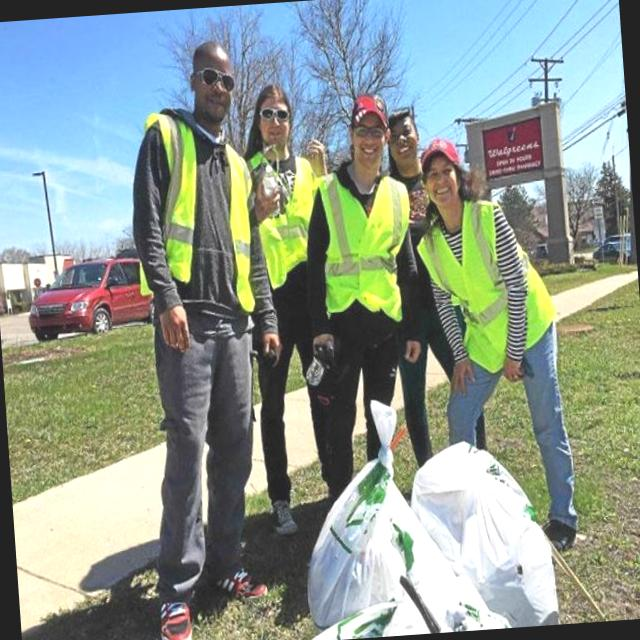vest: (144, 110, 254, 312), (318, 175, 410, 324), (431, 210, 510, 379), (258, 155, 320, 300)
